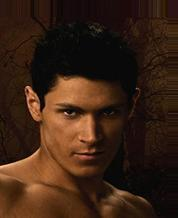face: (57, 103, 118, 163)
